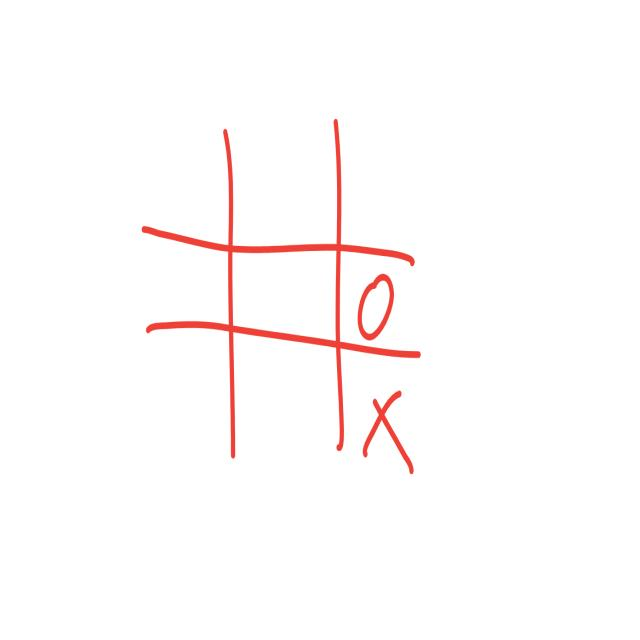O: (344, 261, 406, 348)
X: (354, 382, 427, 479)
grid: (132, 123, 444, 485)
